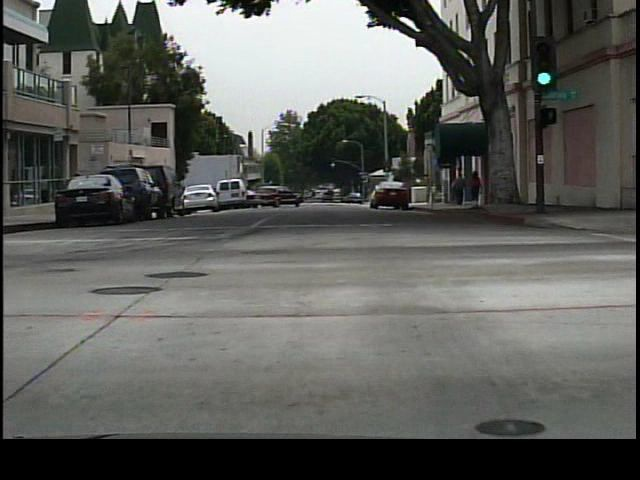person: (468, 167, 486, 211), (448, 174, 469, 210)
